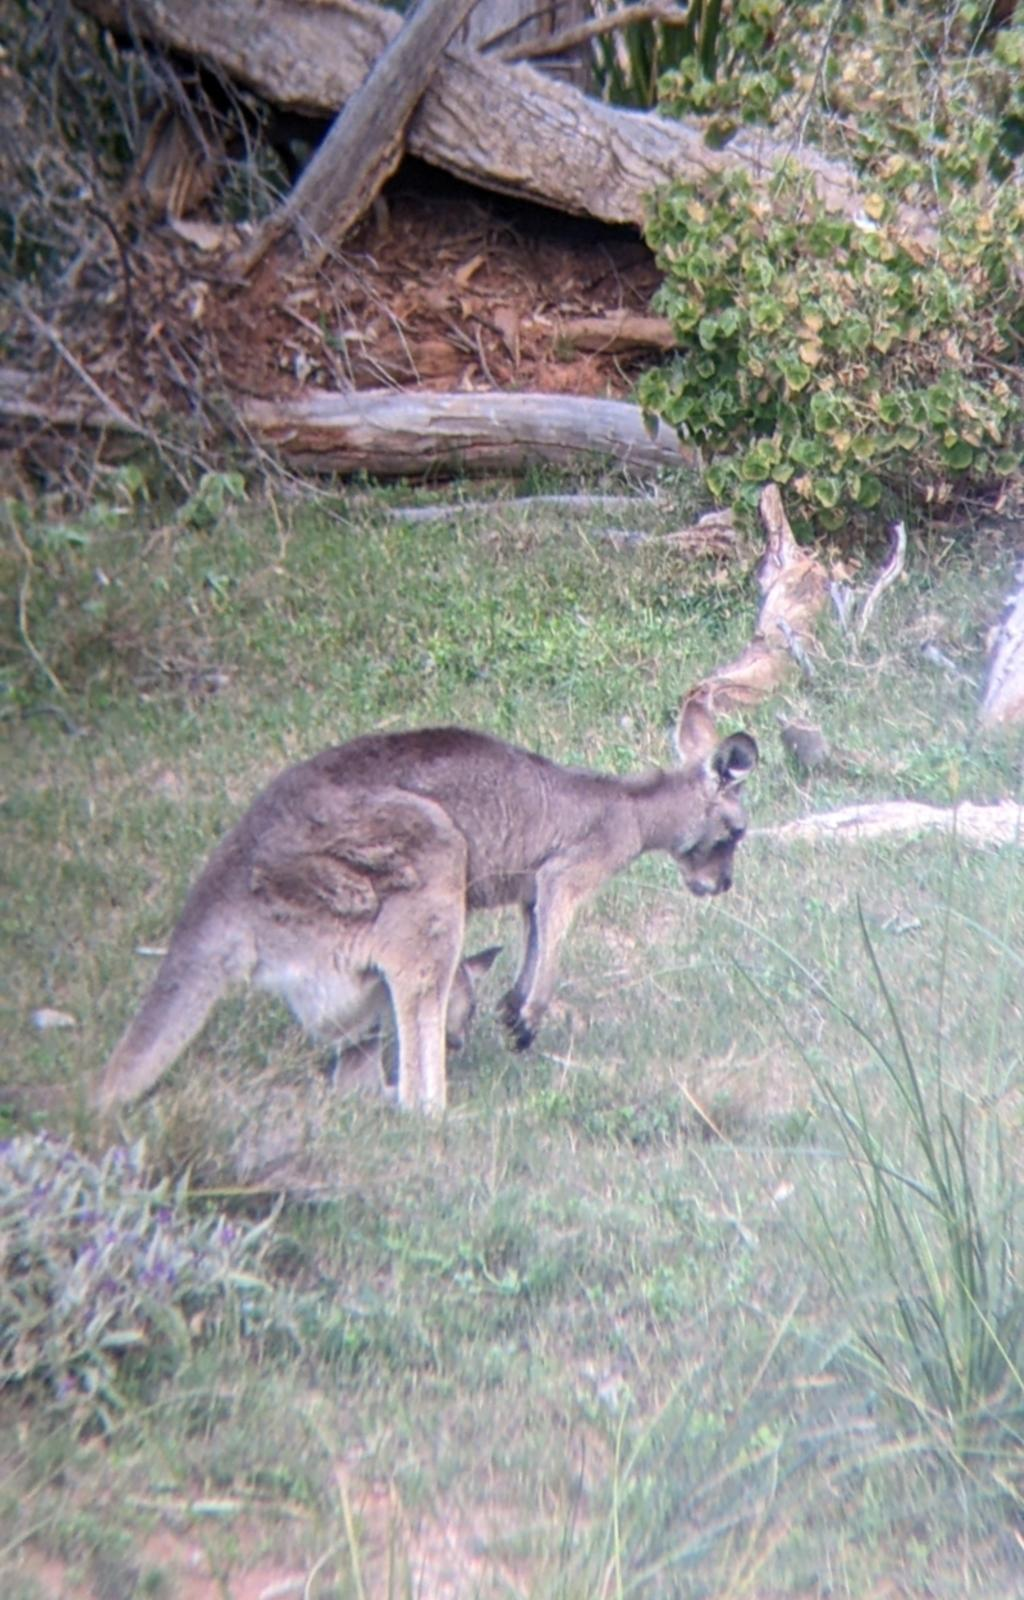Eastern grey kangaroo: (0, 692, 766, 1130), (422, 934, 510, 1057)
